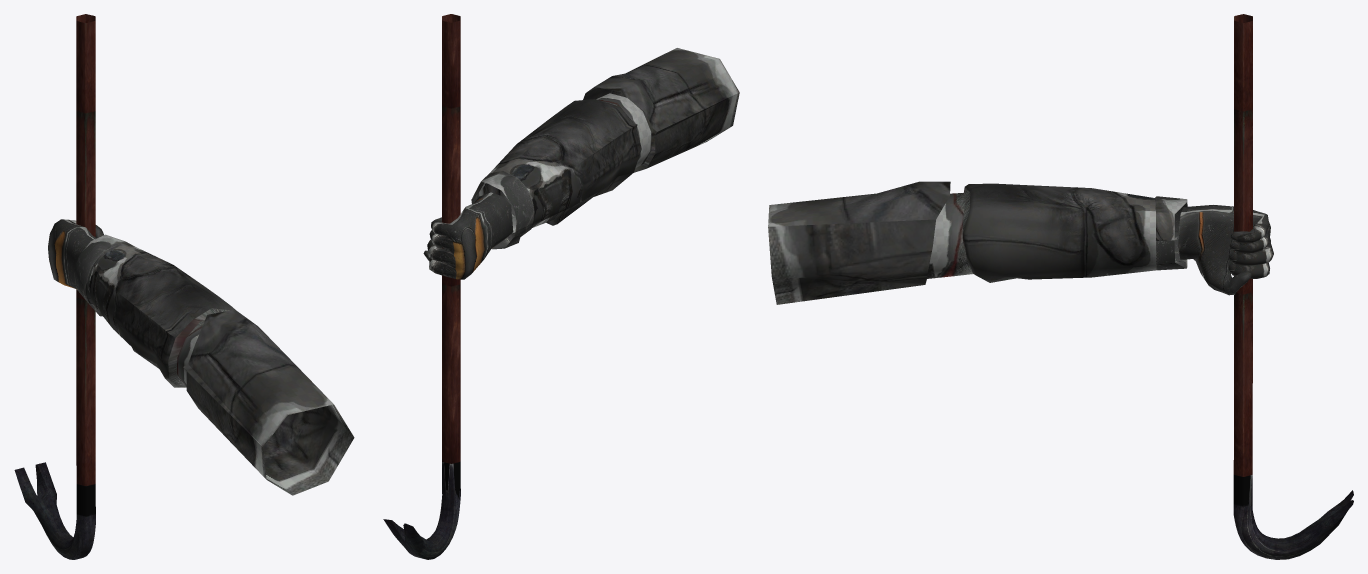
Rendered from v_crowbar2.obj.
3 views of the same model, side by side, from view 1: azimuth 30°, elevation 25°; view 2: azimuth 150°, elevation 25°; view 3: azimuth 270°, elevation 25° (orthographic). The views are drawn at different scales.
Parts seen in each view (by area): view 1: Group_V:\Kinect\Antlion\scenes\Weapons\Crowbar\v_crowbar.obj_stu; view 2: Group_V:\Kinect\Antlion\scenes\Weapons\Crowbar\v_crowbar.obj_stu; view 3: Group_V:\Kinect\Antlion\scenes\Weapons\Crowbar\v_crowbar.obj_stu.
Part boxes in pixels (x1,y1,x2,y2): Group_V:\Kinect\Antlion\scenes\Weapons\Crowbar\v_crowbar.obj_stu: (14, 14, 354, 559); Group_V:\Kinect\Antlion\scenes\Weapons\Crowbar\v_crowbar.obj_stu: (383, 14, 739, 559); Group_V:\Kinect\Antlion\scenes\Weapons\Crowbar\v_crowbar.obj_stu: (768, 14, 1353, 559).
Size of the model in its own units: 6 by 34.62 by 34.07.
